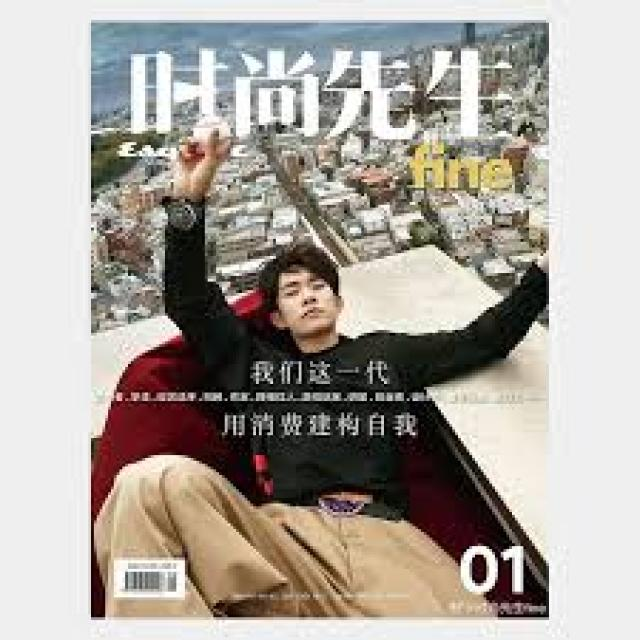paper: (48, 25, 637, 640)
